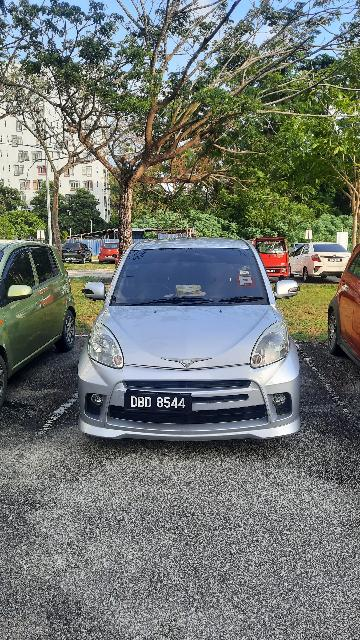License_Plate: (123, 387, 196, 418)
car: (74, 235, 311, 447)
